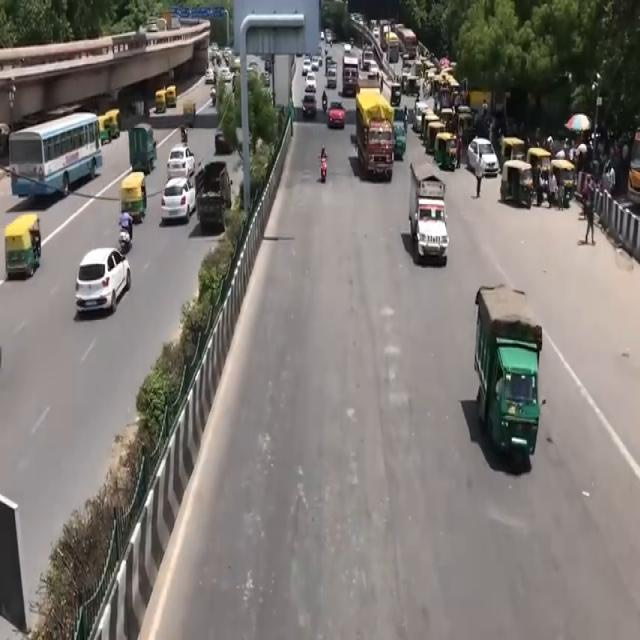BUS: (12, 111, 106, 207), (355, 91, 395, 183)
TRUCK: (476, 285, 542, 462)
